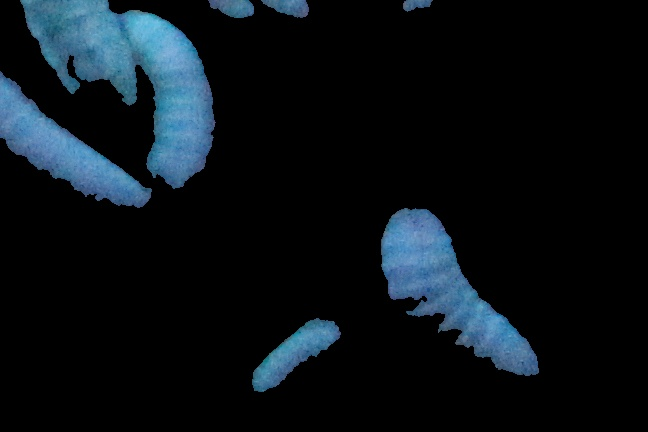larvae: (378, 206, 551, 395), (1, 71, 151, 208), (122, 10, 216, 187), (21, 1, 138, 103), (246, 312, 344, 398)
